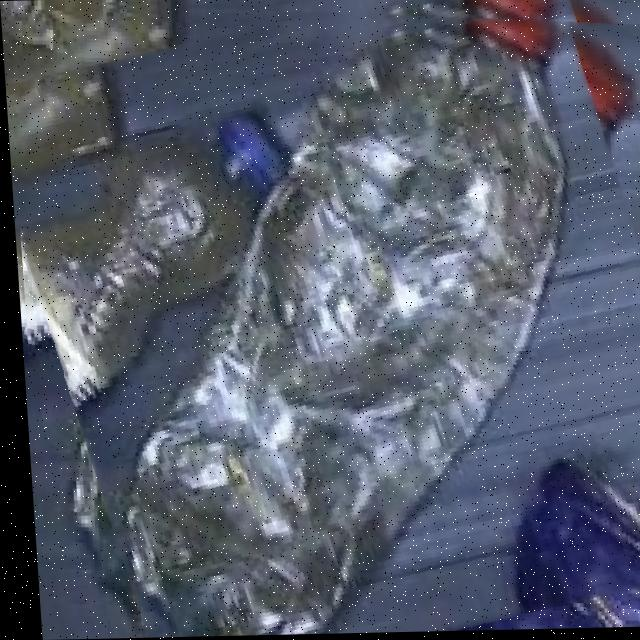litter: (5, 0, 640, 640), (3, 45, 369, 353)
